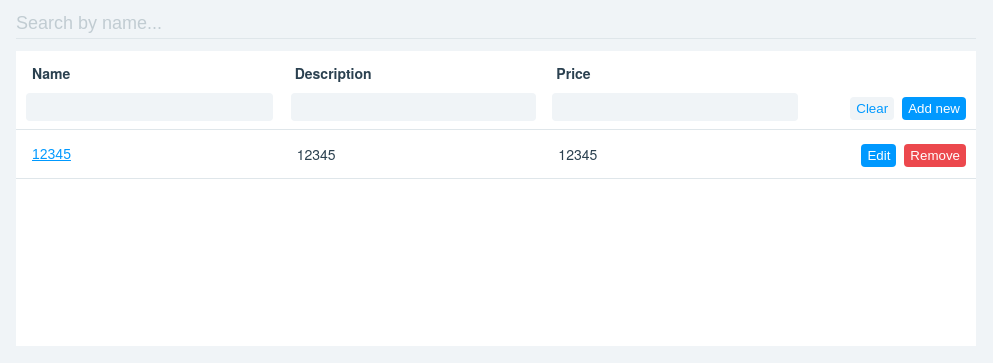
it: Edits item from the table
This screenshot has width=993, height=363.
Finds & click edit button
Click the button "edit" at (879, 155), box [861,144,896,166]
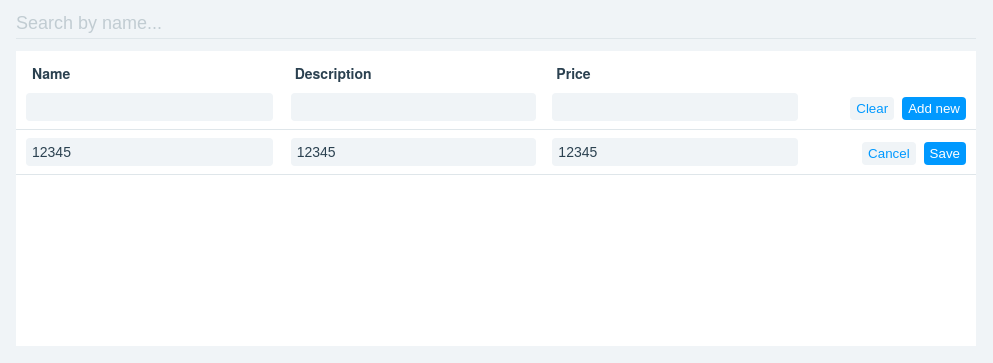
Replaces first input value
Replace the text in the 3rd field showing "12345" with "98765" at (149, 152), box [26,138,273,166]
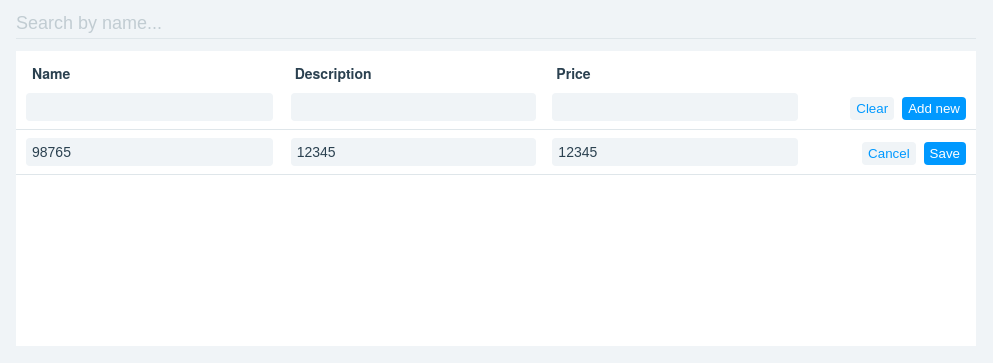
Finds & click "Save" button
Click the button "save" at (945, 153), box [924,142,966,164]
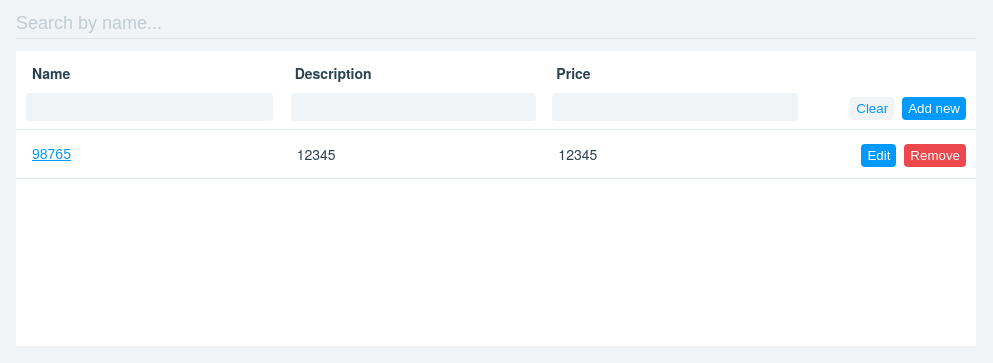
Now the table shows "98765", box [26,140,273,168]
